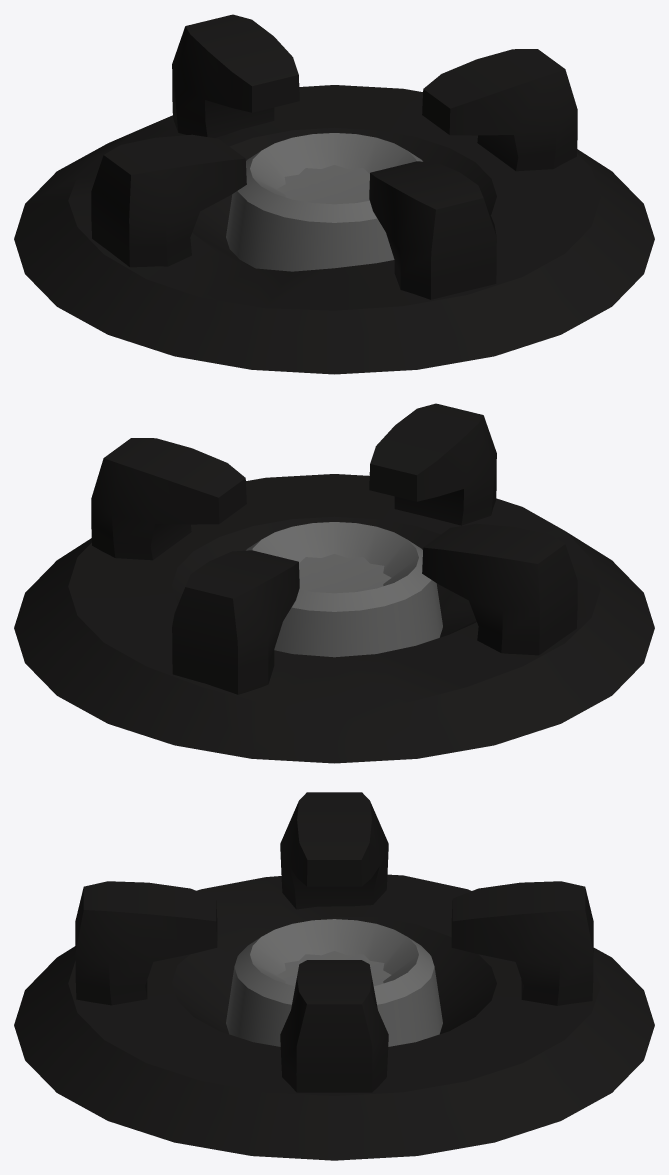
File: Counter_Top_Burner_01.fbx
3 renders of one model, top to bottom at view 1: azimuth 30°, elevation 25°; view 2: azimuth 150°, elevation 25°; view 3: azimuth 270°, elevation 25°, orthographic.
Visible parts, largest first — view 1: Counter_Top_Burner_01; view 2: Counter_Top_Burner_01; view 3: Counter_Top_Burner_01.
Part boxes in pixels (left/top/right/bottom): Counter_Top_Burner_01: left=14, top=14, right=654, bottom=374; Counter_Top_Burner_01: left=14, top=403, right=654, bottom=763; Counter_Top_Burner_01: left=14, top=792, right=654, bottom=1160.
Bounding box in the file's own units: 73.2 × 18.75 × 73.2.
